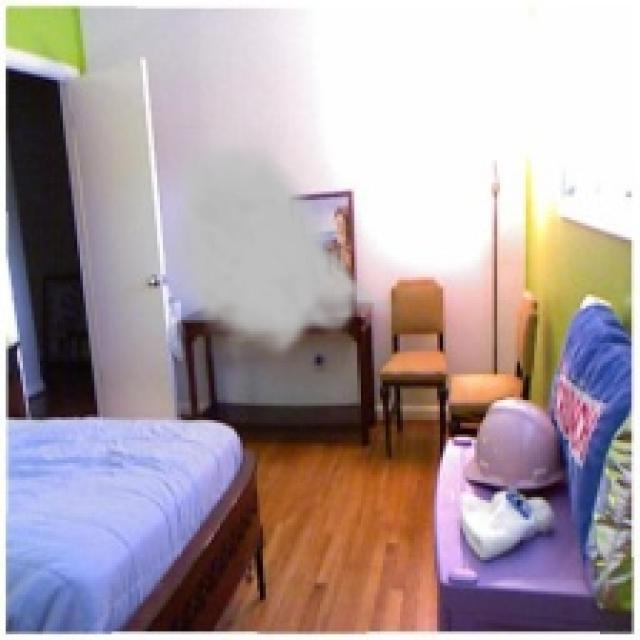Smoke: (160, 126, 403, 363)
